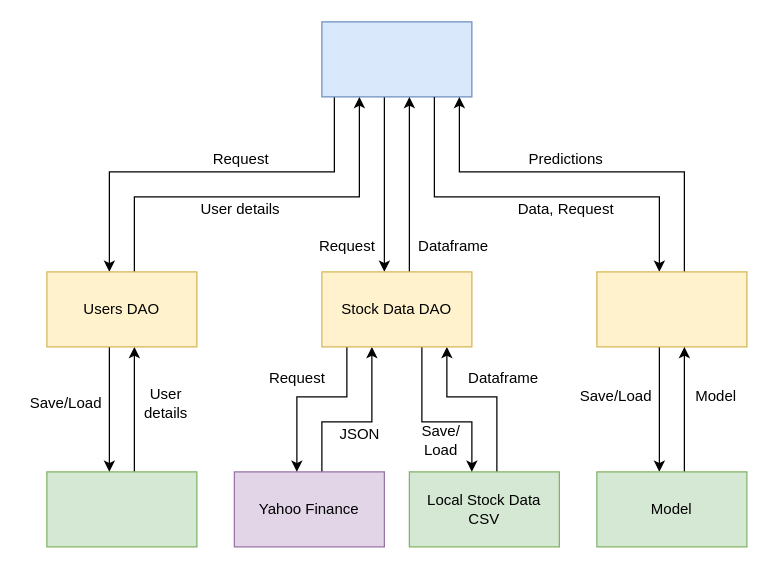
Some shapes in this 769 by 569 pixel diagram are drawn without their labels. Here are the shapes that lost their labels. From the top down, the box of each, then its label:
(321, 21, 472, 97): Main
(596, 271, 747, 347): Machine Learning
(46, 471, 197, 547): Users CSV
